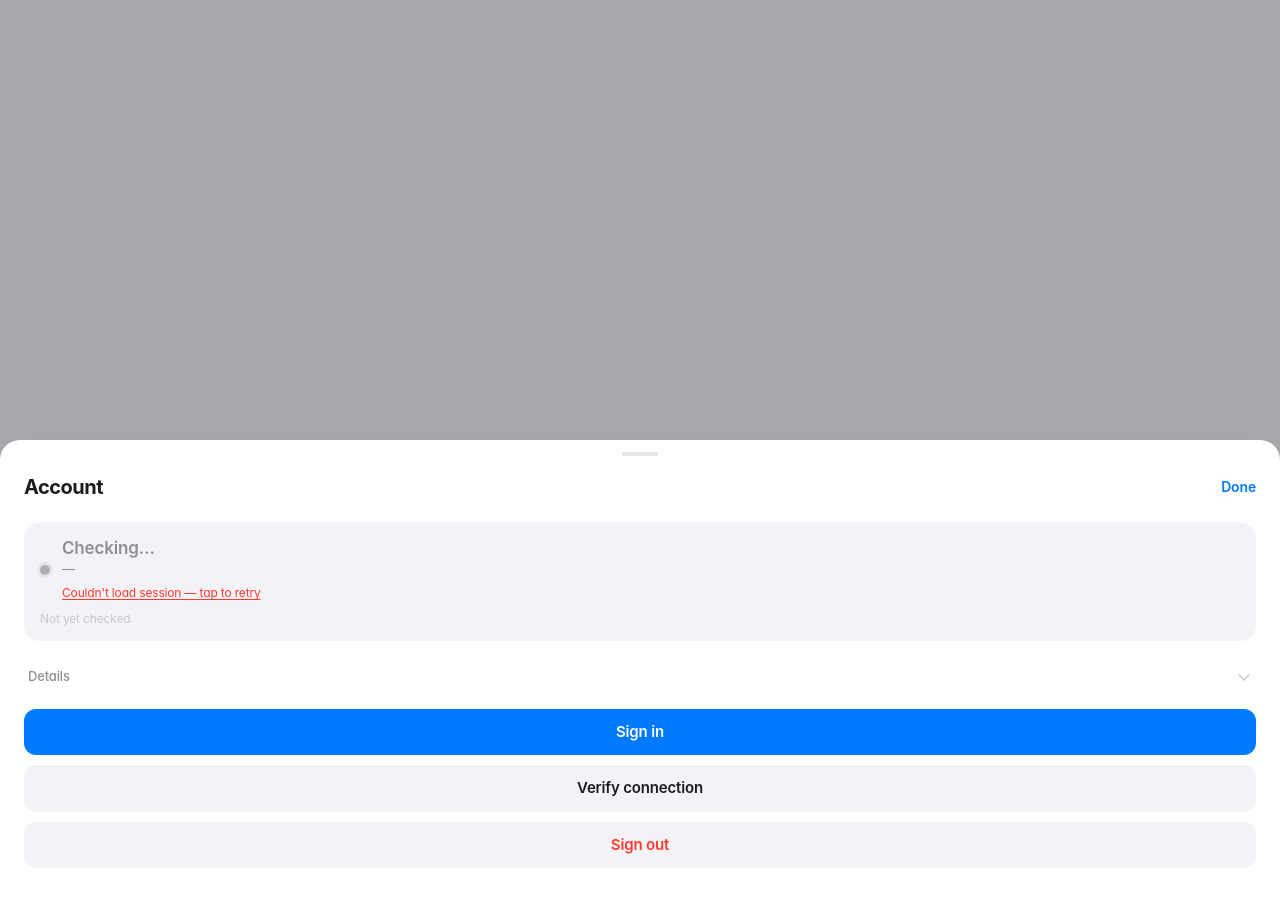
AccountSheet — session-status load failure (Task #81/#90) › clears the error after a successful tap-to-retry
Click the button with test id "session-load-error" at (161,593), box [62,584,261,602]
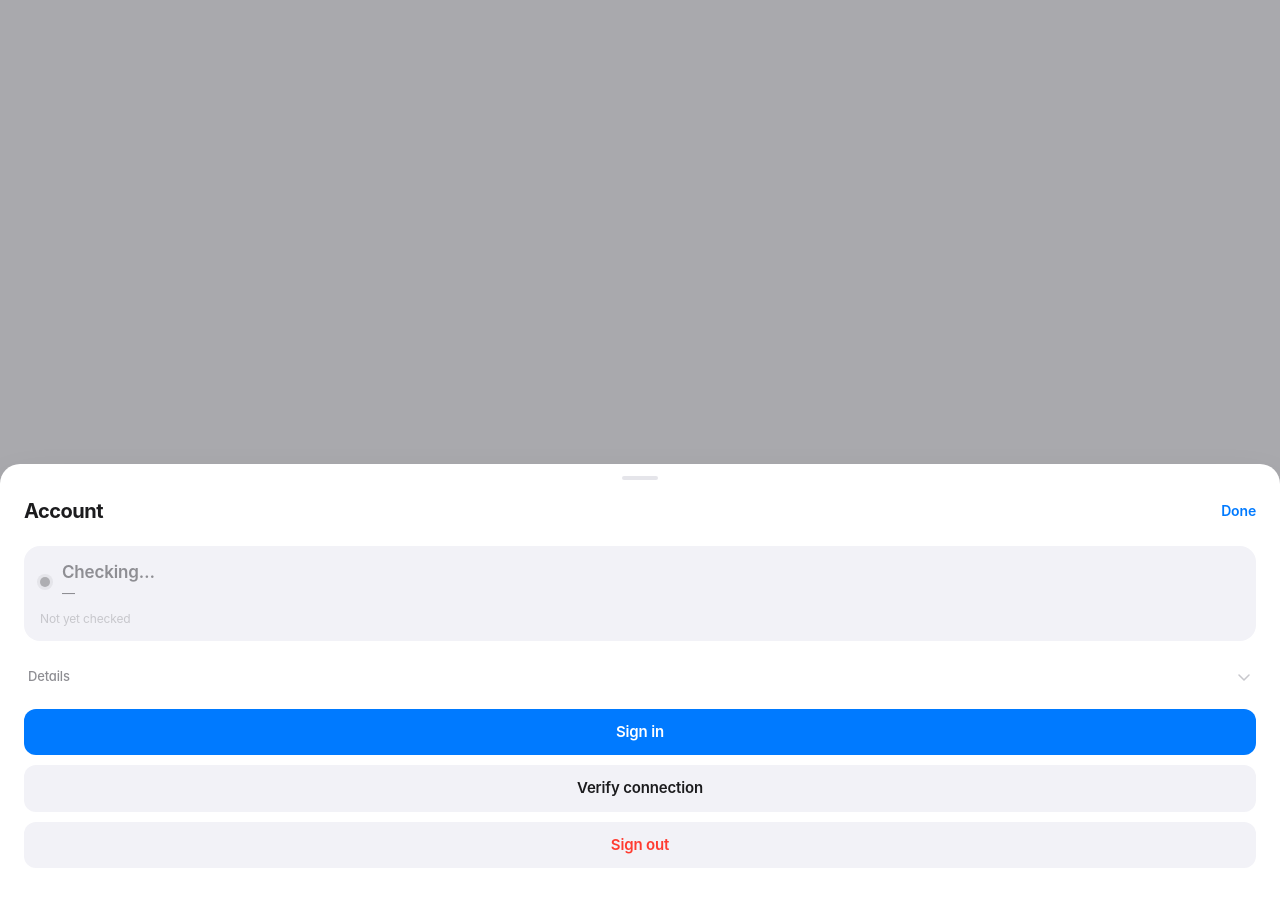
expect the button with test id "session-load-error" is gone: met
